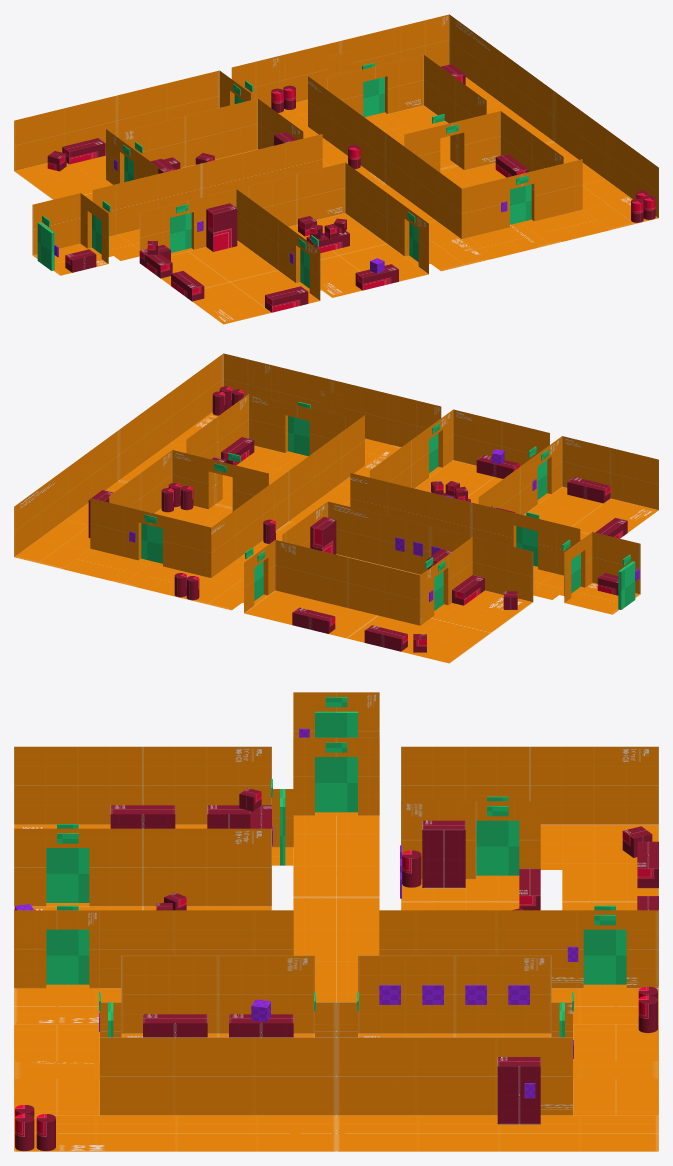
The model's file is prototype_assets.gltf.
3 views of the same model, one above another, from view 1: azimuth 30°, elevation 25°; view 2: azimuth 150°, elevation 25°; view 3: azimuth 270°, elevation 25° (orthographic). The views are drawn at different scales.
Visible parts, largest first — view 1: CSGCombiner3D2, MeshInstance3D19, MeshInstance3D4, MeshInstance3D12, MeshInstance3D44, MeshInstance3D212, MeshInstance3D312, MeshInstance3D6, MeshInstance3D94, MeshInstance3D3, MeshInstance3D24, MeshInstance3D10 (+2 smaller); view 2: CSGCombiner3D2, MeshInstance3D17, MeshInstance3D4, MeshInstance3D13, MeshInstance3D12, MeshInstance3D212, MeshInstance3D44, MeshInstance3D94, MeshInstance3D11, MeshInstance3D6, MeshInstance3D9, MeshInstance3D312; view 3: CSGCombiner3D2, MeshInstance3D18, MeshInstance3D14, MeshInstance3D64, MeshInstance3D74, MeshInstance3D84, MeshInstance3D54, MeshInstance3D45, MeshInstance3D3, MeshInstance3D7, MeshInstance3D8, MeshInstance3D94 (+7 smaller).
Boxes of the visible parts, x1=… form: CSGCombiner3D2: x1=14, y1=14, x2=658, y2=324; MeshInstance3D19: x1=206, y1=203, x2=237, y2=251; MeshInstance3D4: x1=265, y1=286, x2=308, y2=312; MeshInstance3D12: x1=62, y1=138, x2=105, y2=164; MeshInstance3D44: x1=510, y1=184, x2=531, y2=224; MeshInstance3D212: x1=363, y1=77, x2=384, y2=117; MeshInstance3D312: x1=170, y1=212, x2=191, y2=252; MeshInstance3D6: x1=355, y1=264, x2=398, y2=290; MeshInstance3D94: x1=37, y1=222, x2=54, y2=270; MeshInstance3D3: x1=171, y1=271, x2=204, y2=301; MeshInstance3D24: x1=65, y1=249, x2=96, y2=272; MeshInstance3D10: x1=495, y1=154, x2=528, y2=177; CSGCombiner3D2: x1=14, y1=353, x2=658, y2=663; MeshInstance3D17: x1=310, y1=516, x2=336, y2=554; MeshInstance3D4: x1=567, y1=477, x2=610, y2=503; MeshInstance3D13: x1=292, y1=607, x2=335, y2=633; MeshInstance3D12: x1=364, y1=625, x2=407, y2=651; MeshInstance3D212: x1=141, y1=523, x2=162, y2=563; MeshInstance3D44: x1=288, y1=416, x2=309, y2=456; MeshInstance3D94: x1=618, y1=561, x2=635, y2=609; MeshInstance3D11: x1=452, y1=575, x2=484, y2=605; MeshInstance3D6: x1=476, y1=455, x2=519, y2=478; MeshInstance3D9: x1=221, y1=437, x2=254, y2=465; MeshInstance3D312: x1=516, y1=526, x2=537, y2=566; CSGCombiner3D2: x1=14, y1=692, x2=658, y2=1151; MeshInstance3D18: x1=422, y1=820, x2=465, y2=888; MeshInstance3D14: x1=497, y1=1057, x2=540, y2=1124; MeshInstance3D64: x1=46, y1=929, x2=89, y2=984; MeshInstance3D74: x1=583, y1=929, x2=626, y2=984; MeshInstance3D84: x1=476, y1=820, x2=519, y2=875; MeshInstance3D54: x1=46, y1=848, x2=89, y2=902; MeshInstance3D45: x1=315, y1=757, x2=357, y2=812; MeshInstance3D3: x1=110, y1=805, x2=175, y2=828; MeshInstance3D7: x1=143, y1=1014, x2=207, y2=1037; MeshInstance3D8: x1=229, y1=1014, x2=293, y2=1037; MeshInstance3D94: x1=315, y1=711, x2=357, y2=737.
Bounding box in the file's own units: 42.12 × 4.05 × 30.
Materials: 5 (5 with a texture image).
